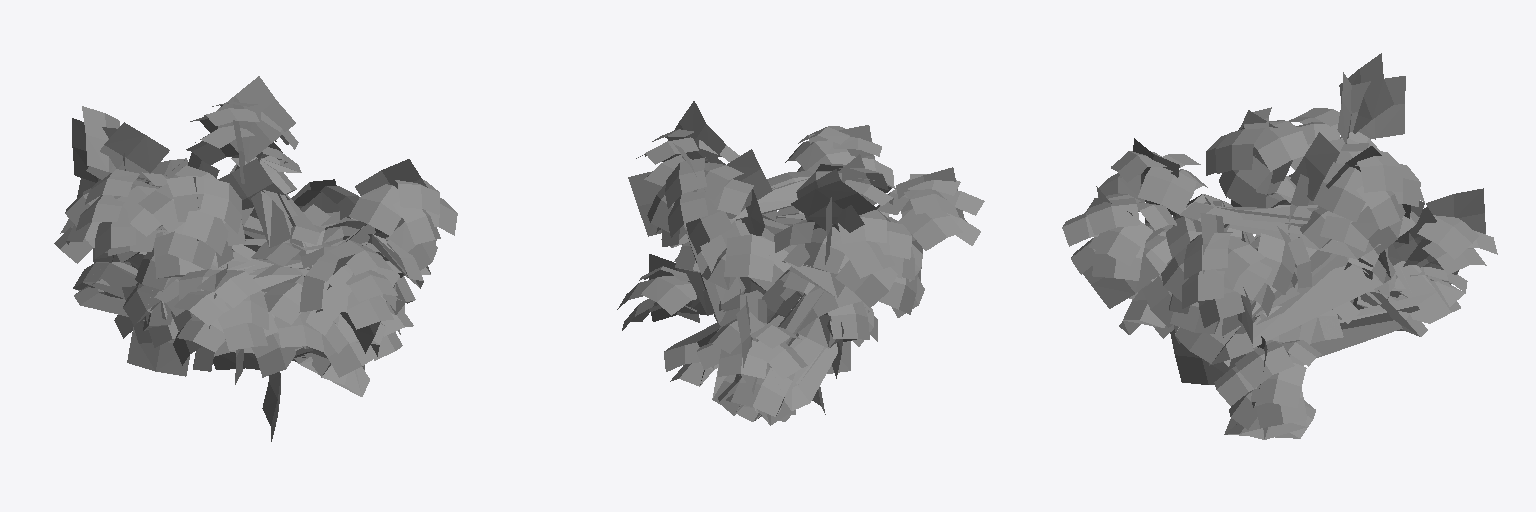
File: Tree_Type_4.obj
3 renders of one model, left to right at view 1: azimuth 30°, elevation 25°; view 2: azimuth 150°, elevation 25°; view 3: azimuth 270°, elevation 25°, orthographic.
Parts seen in each view (by area): view 1: polySurface2462, polySurface2396; view 2: polySurface2462, polySurface2396; view 3: polySurface2462, polySurface2396.
Part boxes in pixels (left/top/right/bottom): polySurface2462: left=54, top=76, right=457, bottom=441; polySurface2396: left=73, top=152, right=430, bottom=396; polySurface2462: left=617, top=101, right=984, bottom=424; polySurface2396: left=657, top=173, right=920, bottom=425; polySurface2462: left=1062, top=53, right=1497, bottom=439; polySurface2396: left=1123, top=139, right=1465, bottom=439.
Size of the model in its own units: 7.63 by 6.45 by 8.92.